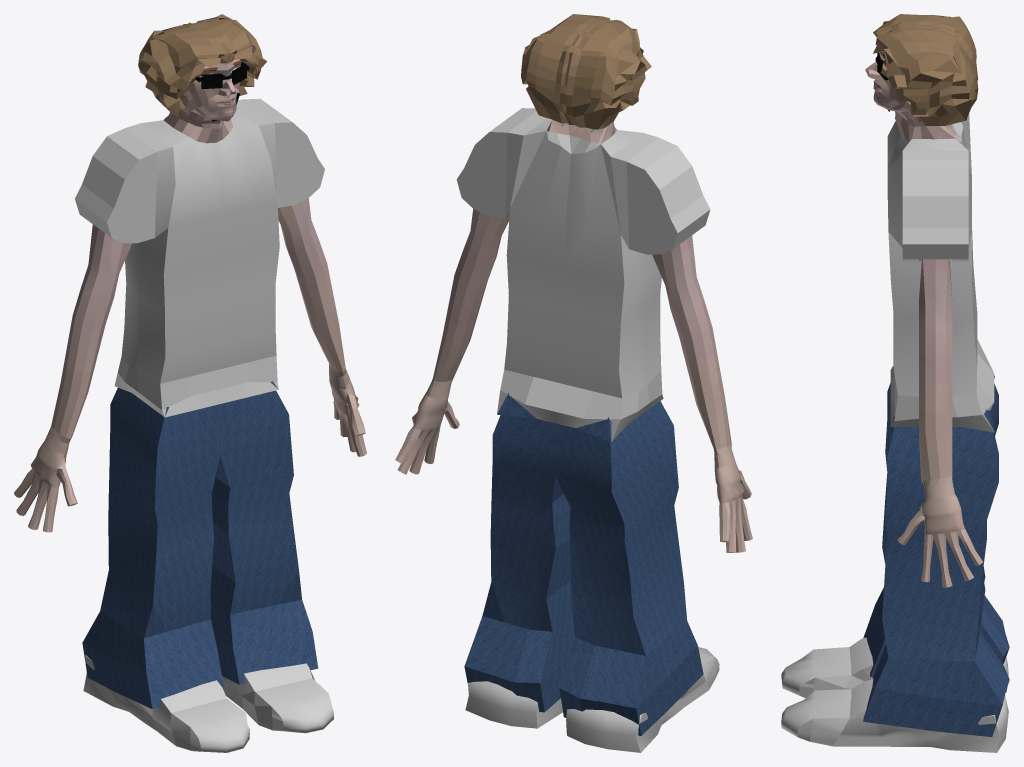
File: Martin 1.fbx
3 renders of one model, left to right at view 1: azimuth 30°, elevation 25°; view 2: azimuth 150°, elevation 25°; view 3: azimuth 270°, elevation 25°, orthographic. The views are drawn at different scales.
Visible parts, largest first — view 1: Martin; view 2: Martin; view 3: Martin.
Boxes of the visible parts, x1,y1,x2,y2 form: Martin: (14,14,366,752); Martin: (395,14,752,752); Martin: (781,14,1009,752).
Size of the model in its own units: 9.4 by 18.03 by 5.45.
